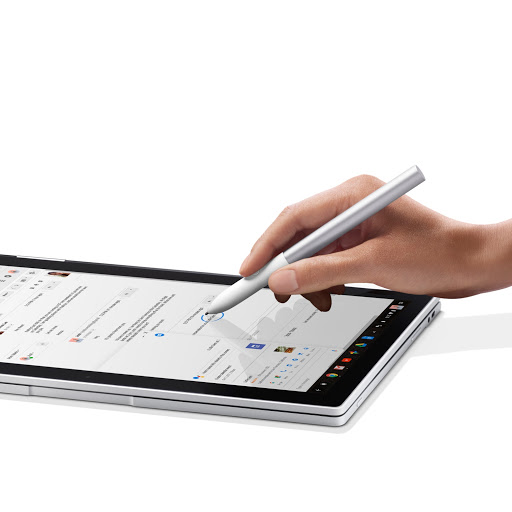Nonrec_Other: (188, 140, 430, 328)
